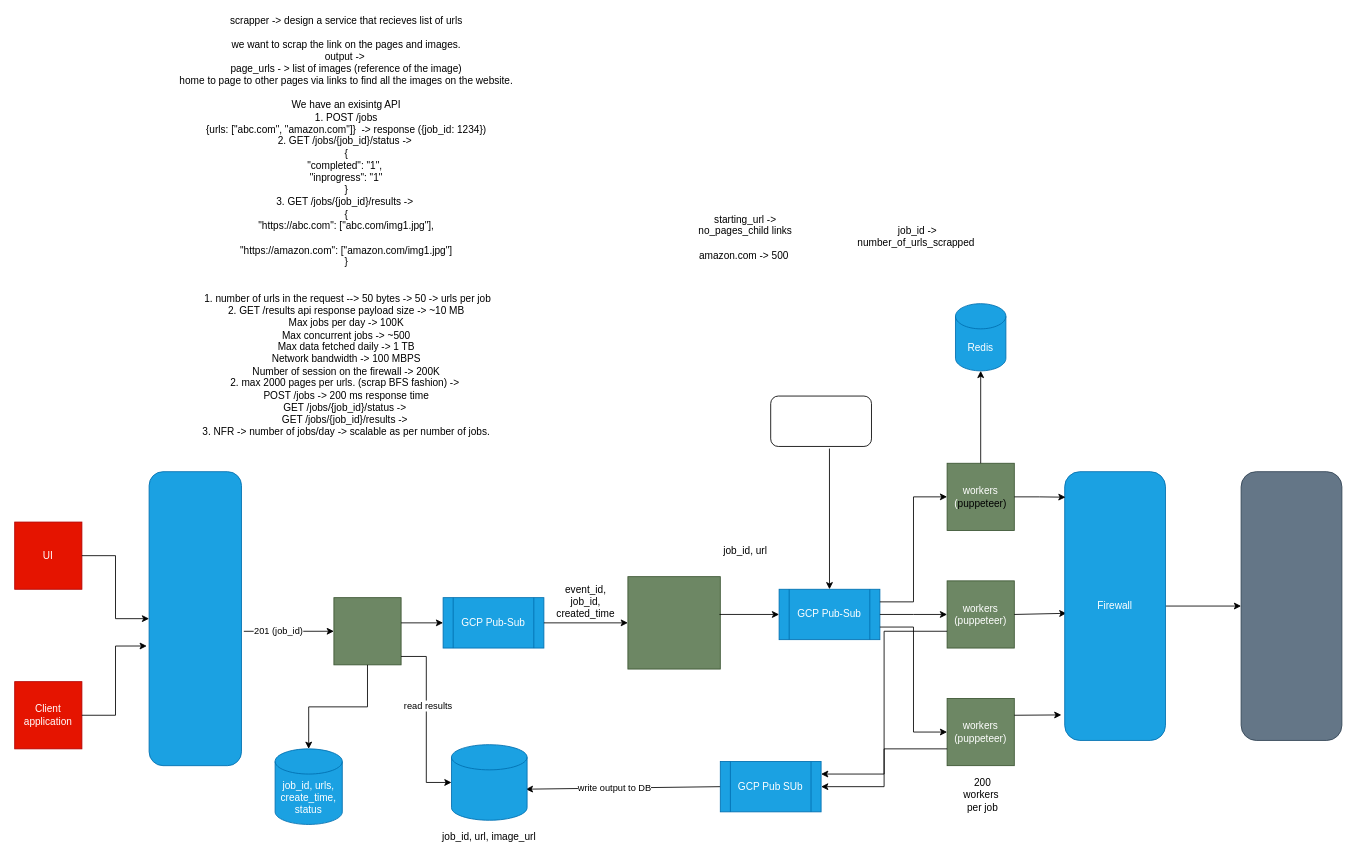
Image size: 1357x864. Some labels were removed from this diagram. Each missing label, with the centre of its shape:
GCP BigTable: [489,782]
GKE + KEDA for scalability max limit 150K pods: [821,420]
Internet: [1291,605]
LB RateLimiter: [195,618]
ScrapOrchestrator (rate limiting): [673,622]
ScrapperJob Service: [367,631]
